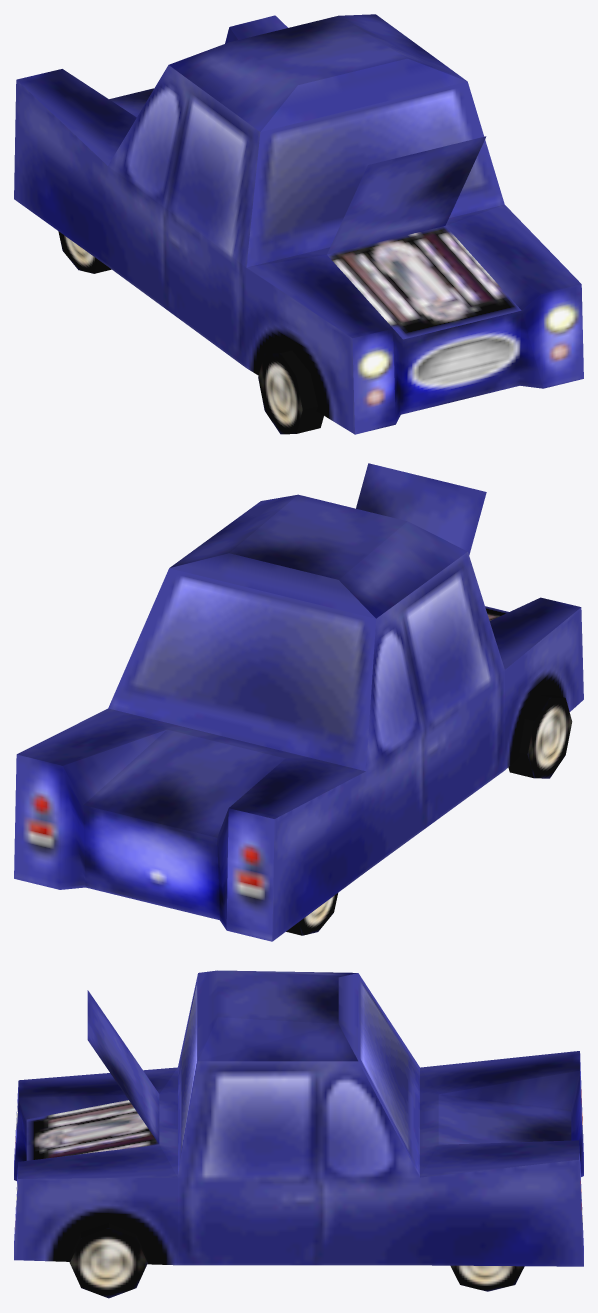
Rendered from CAR.glb.
3 renders of one model, top to bottom at view 1: azimuth 30°, elevation 25°; view 2: azimuth 150°, elevation 25°; view 3: azimuth 270°, elevation 25°, orthographic. The views are drawn at different scales.
Parts seen in each view (by area): view 1: CAR; view 2: CAR; view 3: CAR.
Part boxes in pixels (box(x1,y1,x2,y2)): CAR: box(14, 14, 583, 434); CAR: box(14, 463, 583, 941); CAR: box(14, 970, 583, 1298).
Size of the model in its own units: 245 by 247 by 516.
Materials: 1 (1 with a texture image).
